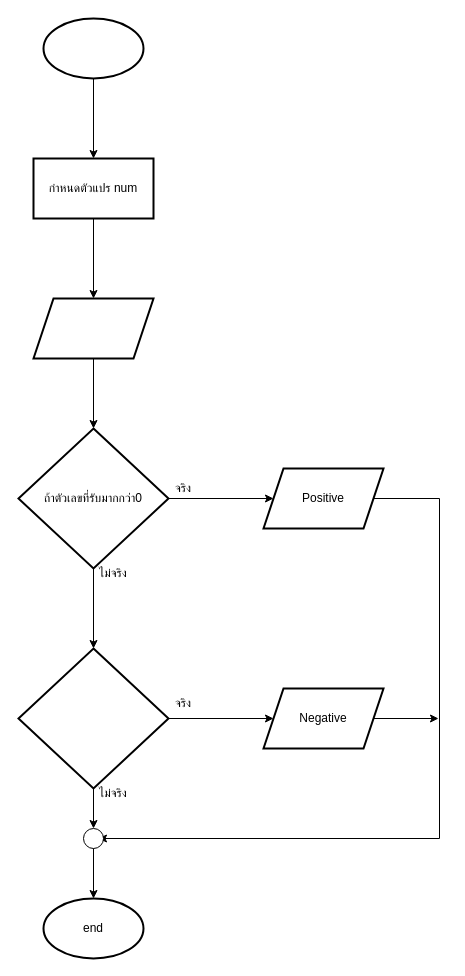
Image size: 465x976. Some labels were removed from this diagram. Each missing label, with the centre of its shape:
"start" belongs at (x=93, y=48).
"ถ้าตัวเลขที่รับน้อยกว่า0" belongs at (x=93, y=718).
"รับค่าจากผู้ใช้" belongs at (x=93, y=328).
